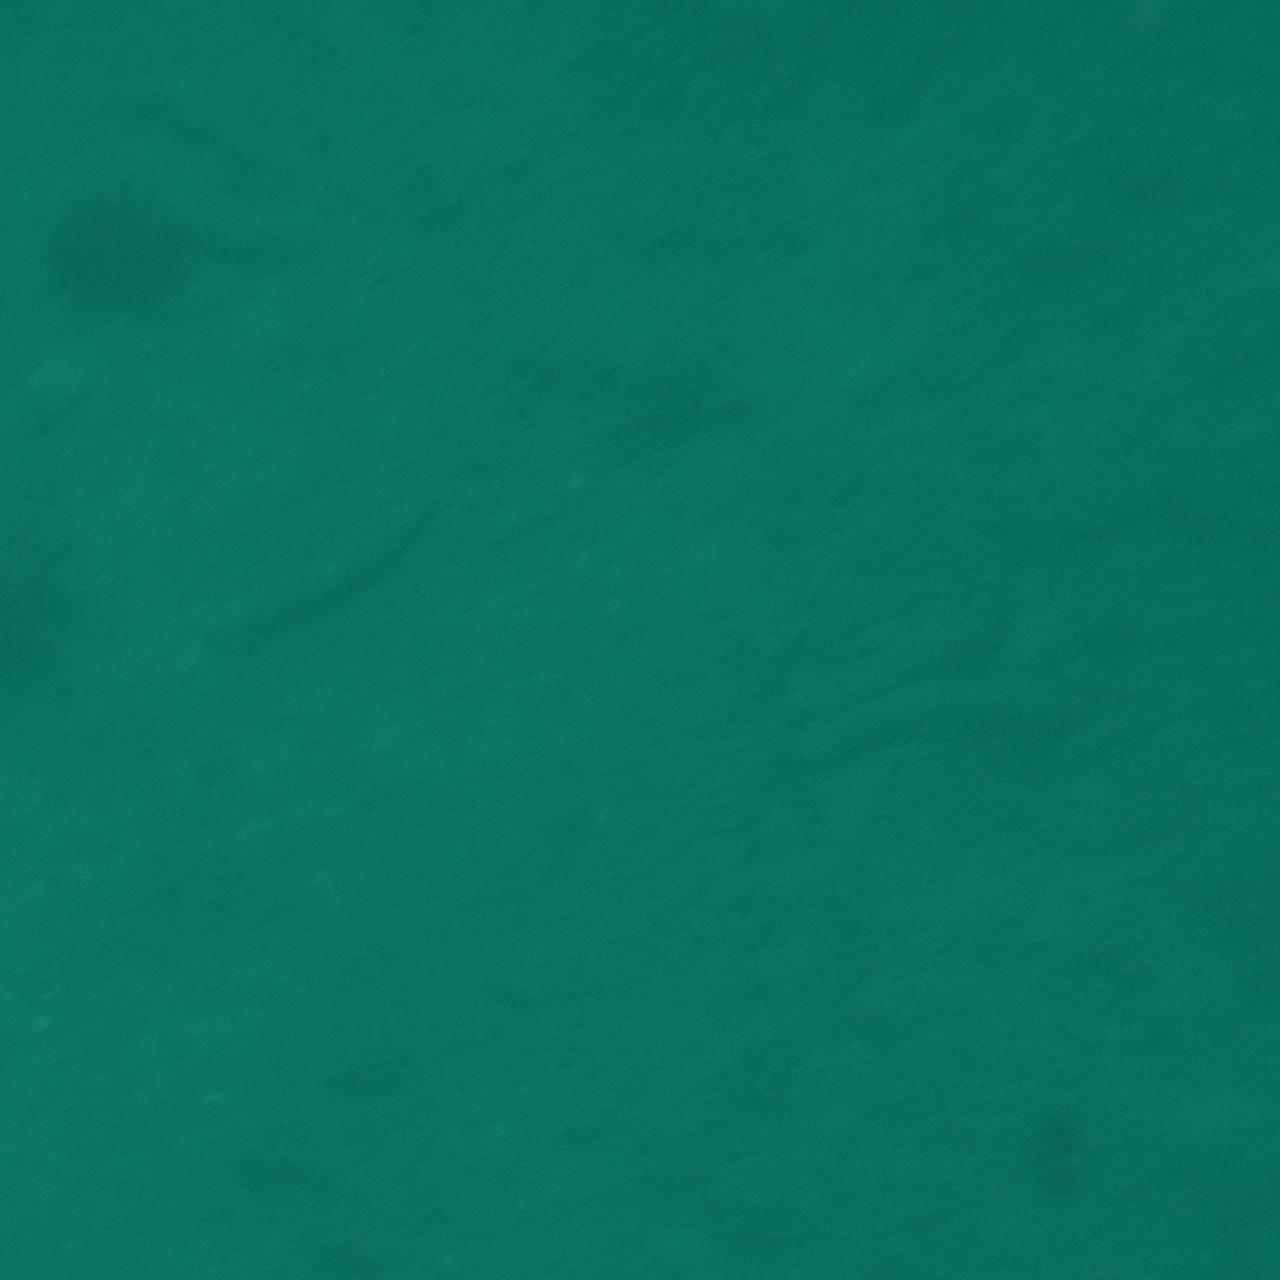Holothuria tubulosa: (151, 456, 511, 662), (742, 629, 1157, 784)
